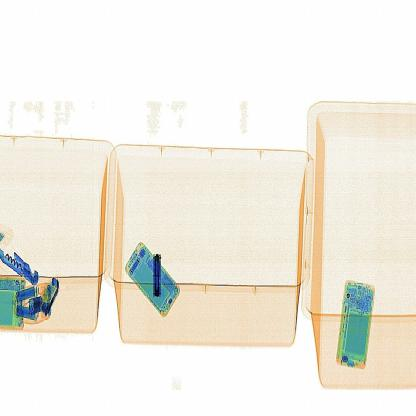scissors: (145, 241, 173, 302)
